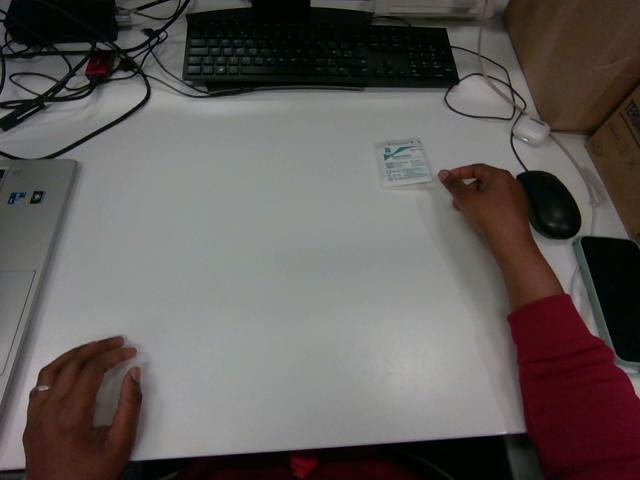gauze: (375, 138, 431, 187)
